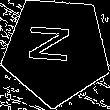N_E: (31, 29, 82, 72)
